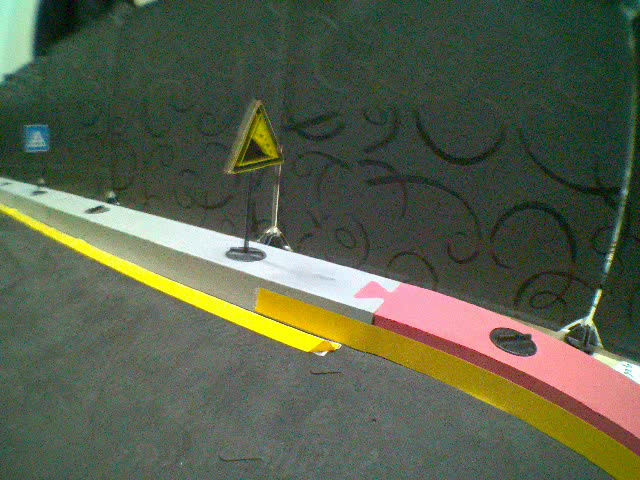crossing: (24, 124, 47, 154)
fast: (215, 96, 292, 174)
